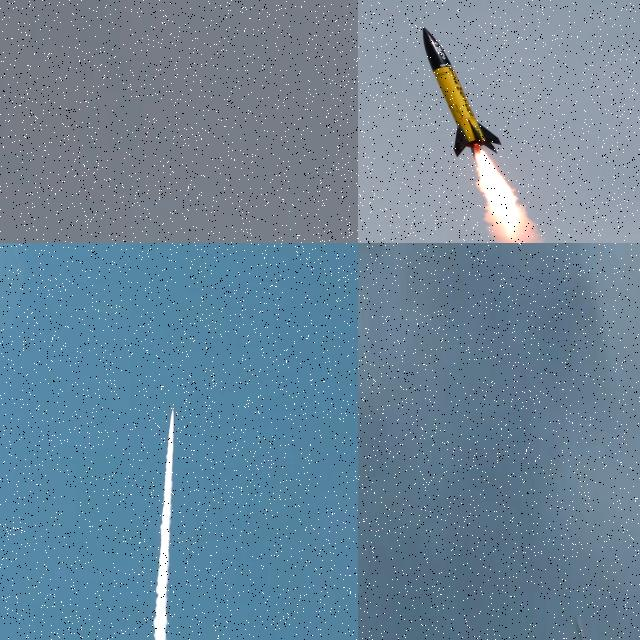Rocket: (421, 26, 503, 158), (575, 613, 598, 640), (172, 404, 175, 412)
